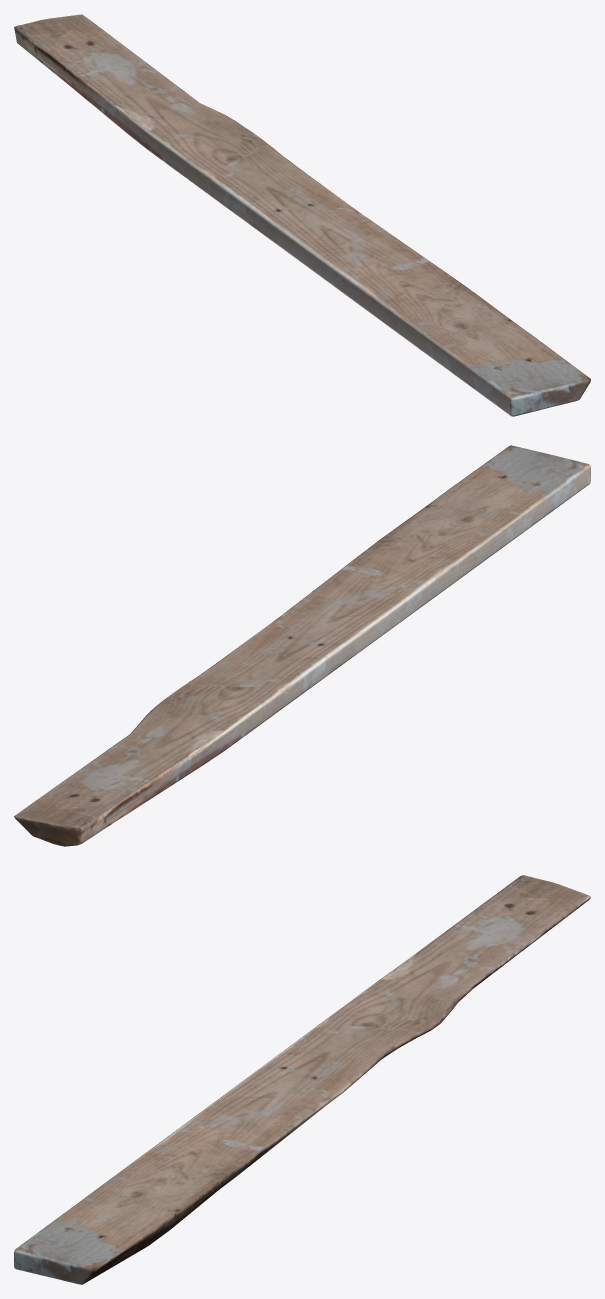
Rendered from sm_WoodPallet_01_11.fbx.
3 renders of one model, top to bottom at view 1: azimuth 30°, elevation 25°; view 2: azimuth 150°, elevation 25°; view 3: azimuth 330°, elevation 25°, orthographic.
Visible parts, largest first — view 1: sm_WoodPallet_01_11_LOD0; view 2: sm_WoodPallet_01_11_LOD0; view 3: sm_WoodPallet_01_11_LOD0.
Boxes of the visible parts, box(x1,y1,x2,y2) form: sm_WoodPallet_01_11_LOD0: box(14, 14, 590, 416); sm_WoodPallet_01_11_LOD0: box(14, 445, 590, 846); sm_WoodPallet_01_11_LOD0: box(14, 875, 590, 1284).
Bounding box in the file's own units: 119 × 11.59 × 3.6.
